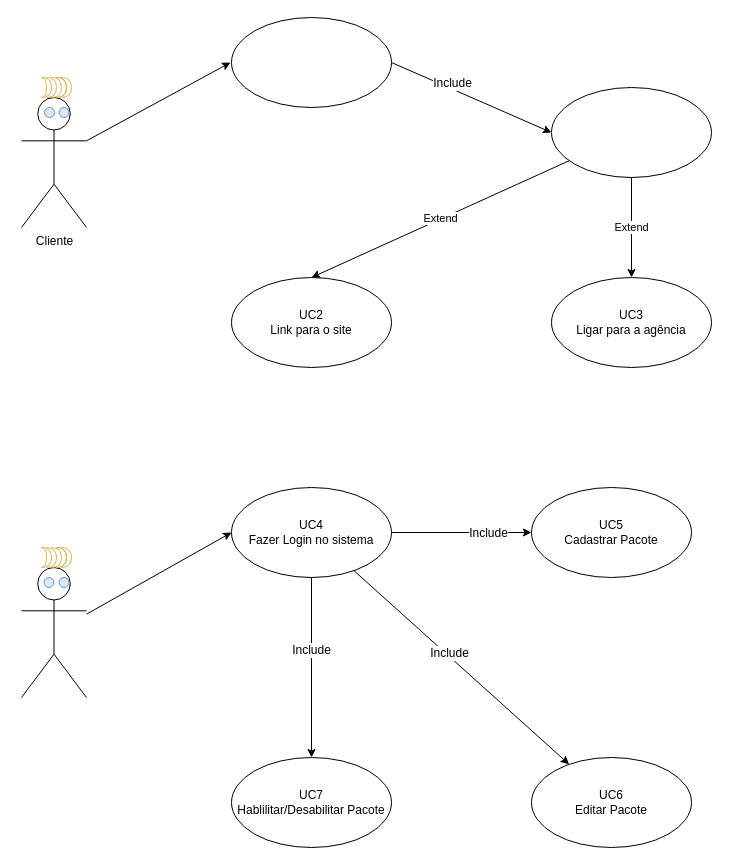
Some shapes in this 729 by 865 pixel diagram are drawn without their labels. The shapes that lost their labels are listed below. From the top down, each one's centre as x and y in pixels, then its label:
At pixel 311 62: "UC1 Selecionar Pacote".
At pixel 631 132: "Descrição do Pacote".
At pixel 53 632: "Administrador".
